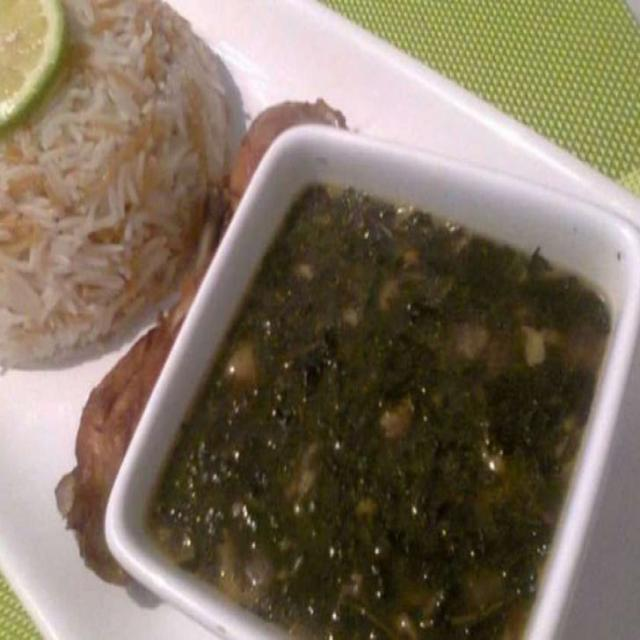Chicken Wings: (64, 353, 177, 568), (226, 86, 349, 170)
White Rice: (0, 4, 223, 301)
